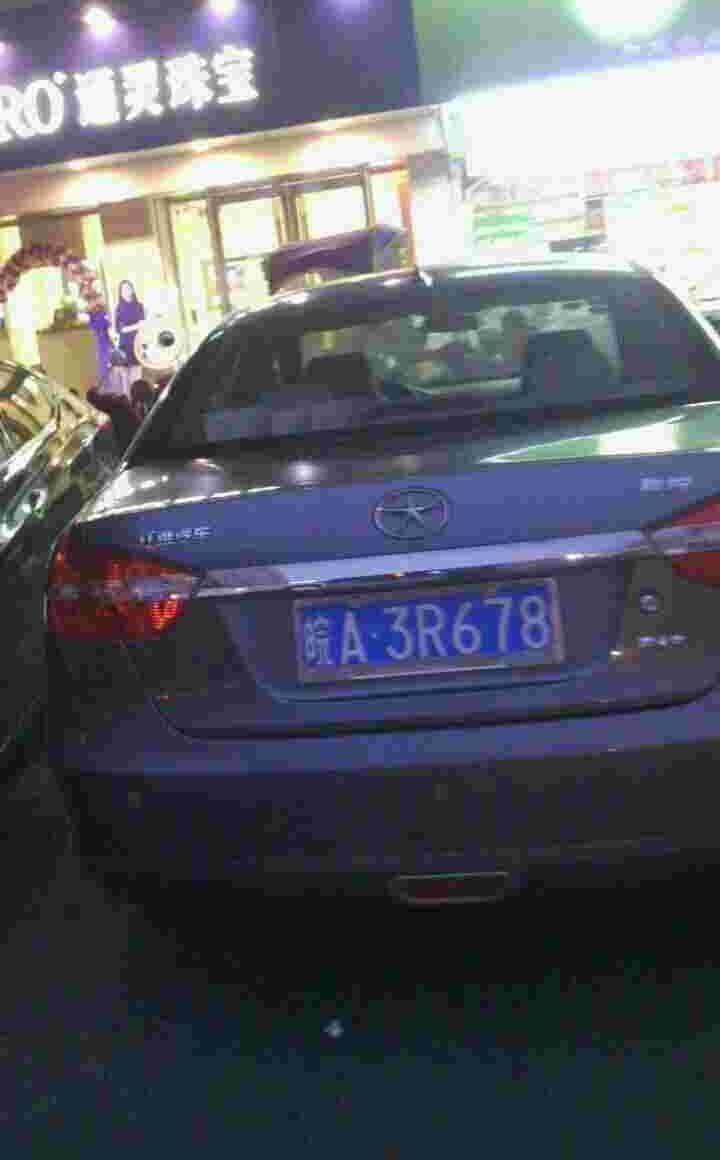license_plate: (293, 582, 555, 683)
